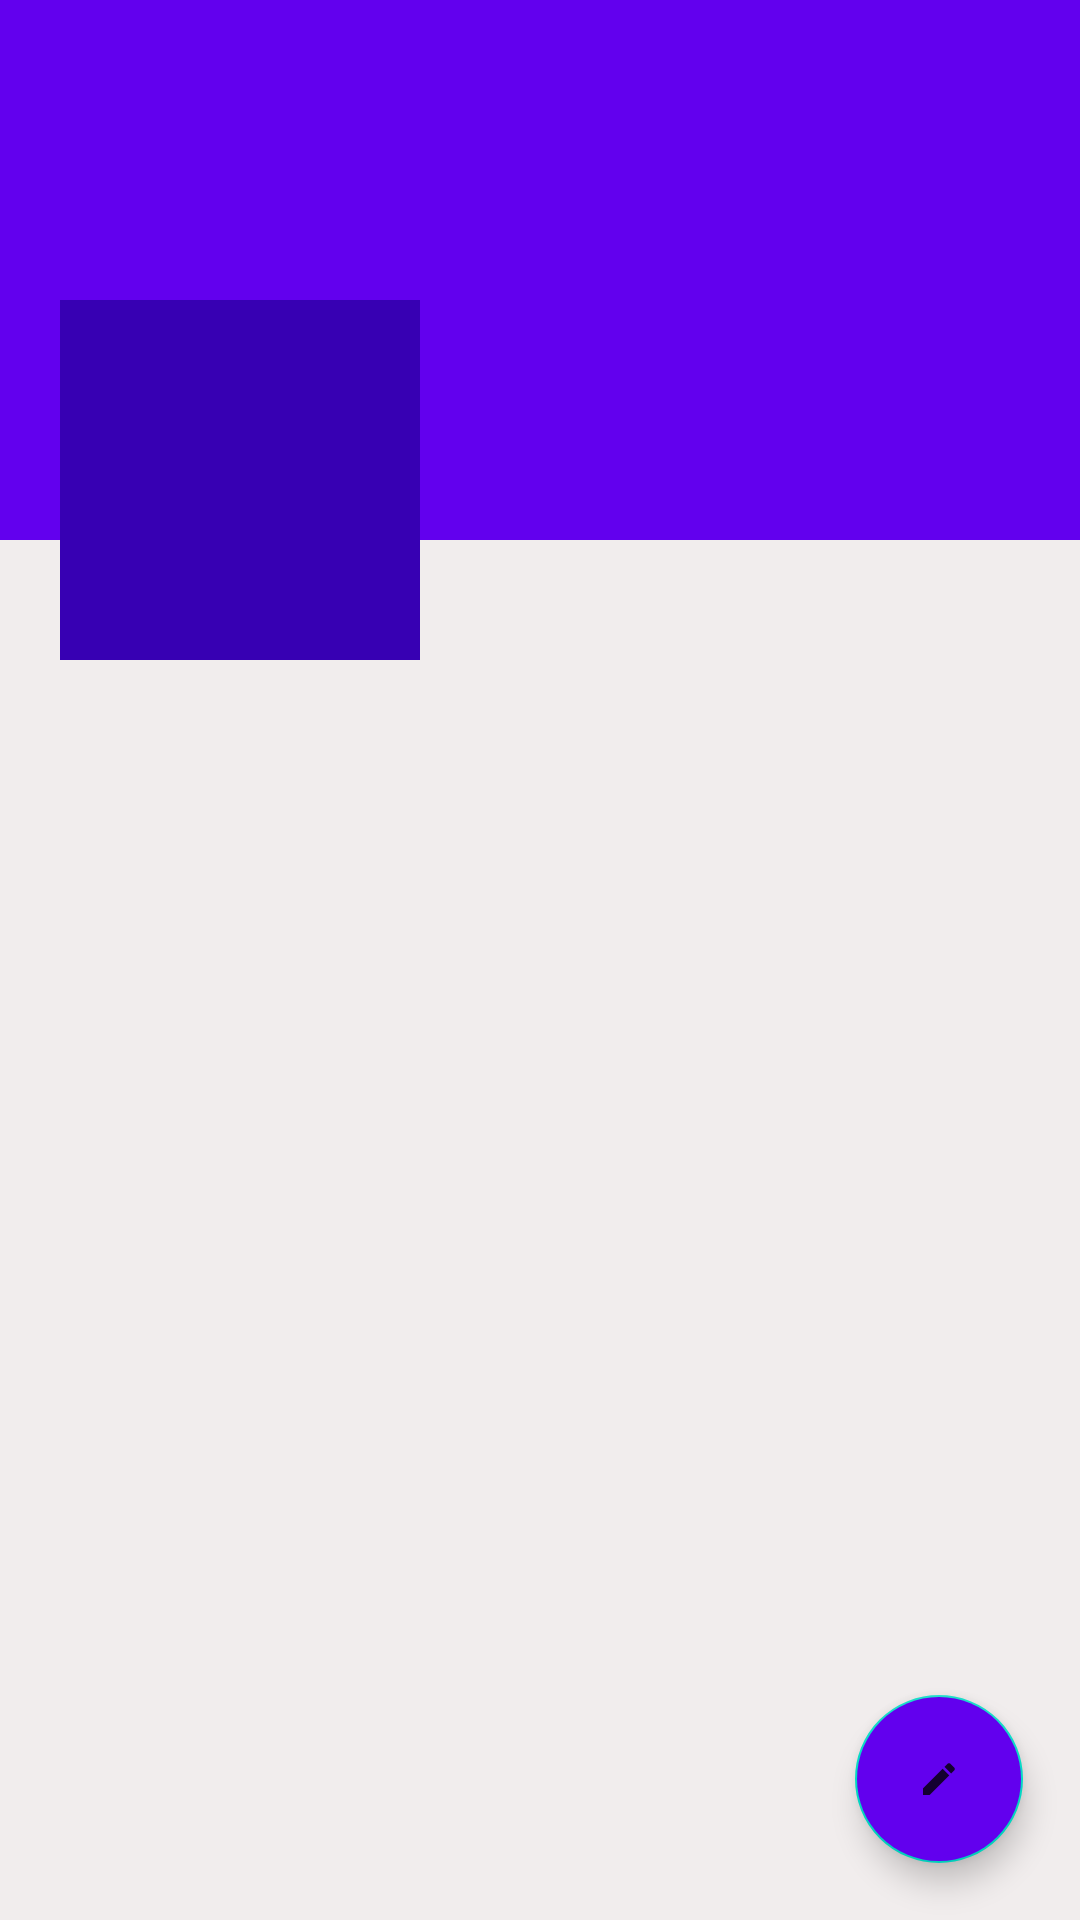

Icon bounding boxes for this 1080 × 1920 phone screenshot, format (x1, y1, x2, y2):
edit pro: (855, 1695, 1023, 1863)
